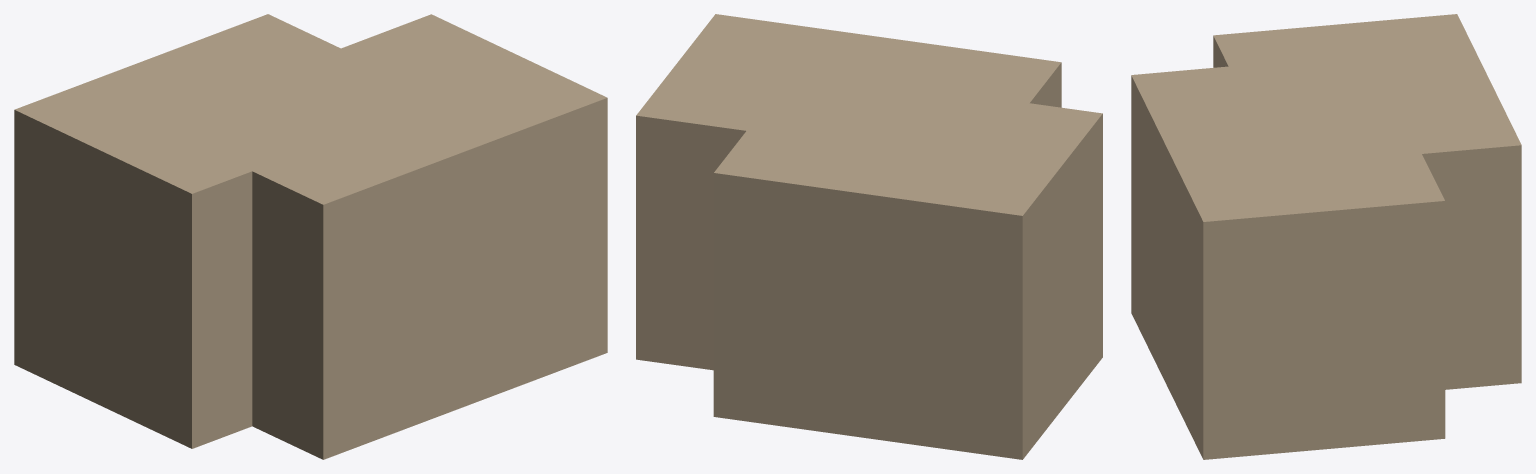
The model's file is bld_107625303.dae.
The picture shows the model from 3 angles, left to right: view 1: azimuth 30°, elevation 25°; view 2: azimuth 150°, elevation 25°; view 3: azimuth 270°, elevation 25°; orthographic projection. The views are drawn at different scales.
Visible parts, largest first — view 1: bld_107625303; view 2: bld_107625303; view 3: bld_107625303.
Part boxes in pixels (x1,y1,x2,y2): bld_107625303: (14, 14, 607, 459); bld_107625303: (636, 14, 1102, 459); bld_107625303: (1131, 14, 1521, 459).
Bounding box in the file's own units: 15.01 × 11.9 × 8.
